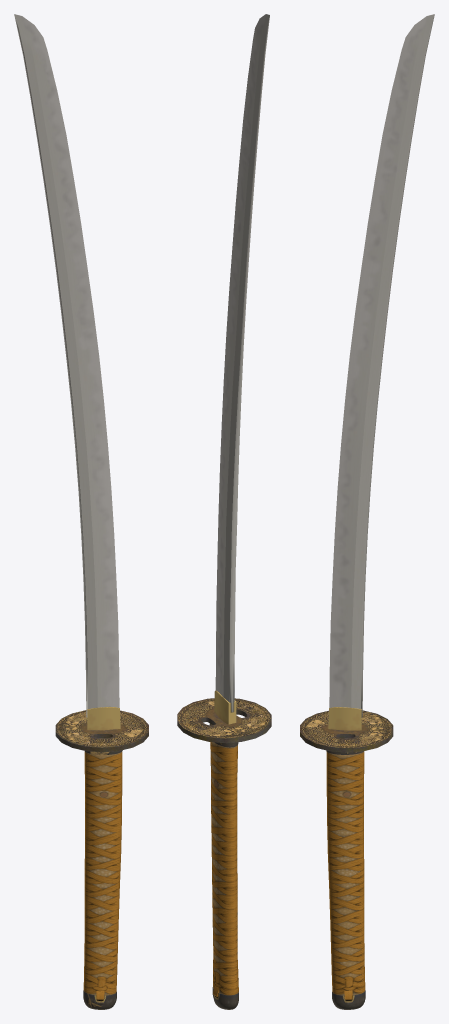
The model's file is WeaponKatana.fbx.
The picture shows the model from 3 angles, left to right: view 1: azimuth 90°, elevation 25°; view 2: azimuth 210°, elevation 25°; view 3: azimuth 270°, elevation 25°; orthographic projection. The views are drawn at different scales.
Visible parts, largest first — view 1: Blade, Tsuka, Tsuba_Marugata, Habaki, Kashira; view 2: Blade, Tsuka, Tsuba_Marugata, Habaki, Kashira; view 3: Blade, Tsuka, Tsuba_Marugata, Habaki, Kashira.
Boxes of the visible parts, bbox=[...] form: Blade: bbox=[14, 14, 119, 717]; Tsuka: bbox=[83, 751, 122, 1000]; Tsuba_Marugata: bbox=[55, 710, 148, 752]; Habaki: bbox=[87, 707, 120, 730]; Kashira: bbox=[83, 990, 116, 1009]; Blade: bbox=[215, 14, 269, 712]; Tsuka: bbox=[210, 742, 238, 997]; Tsuba_Marugata: bbox=[177, 698, 271, 742]; Habaki: bbox=[214, 690, 236, 724]; Kashira: bbox=[212, 987, 238, 1009]; Blade: bbox=[329, 14, 434, 717]; Tsuka: bbox=[326, 751, 365, 1000]; Tsuba_Marugata: bbox=[300, 710, 393, 752]; Habaki: bbox=[328, 707, 361, 730]; Kashira: bbox=[332, 990, 365, 1009].
Size of the model in its own units: 8.19 by 97.22 by 11.97.
